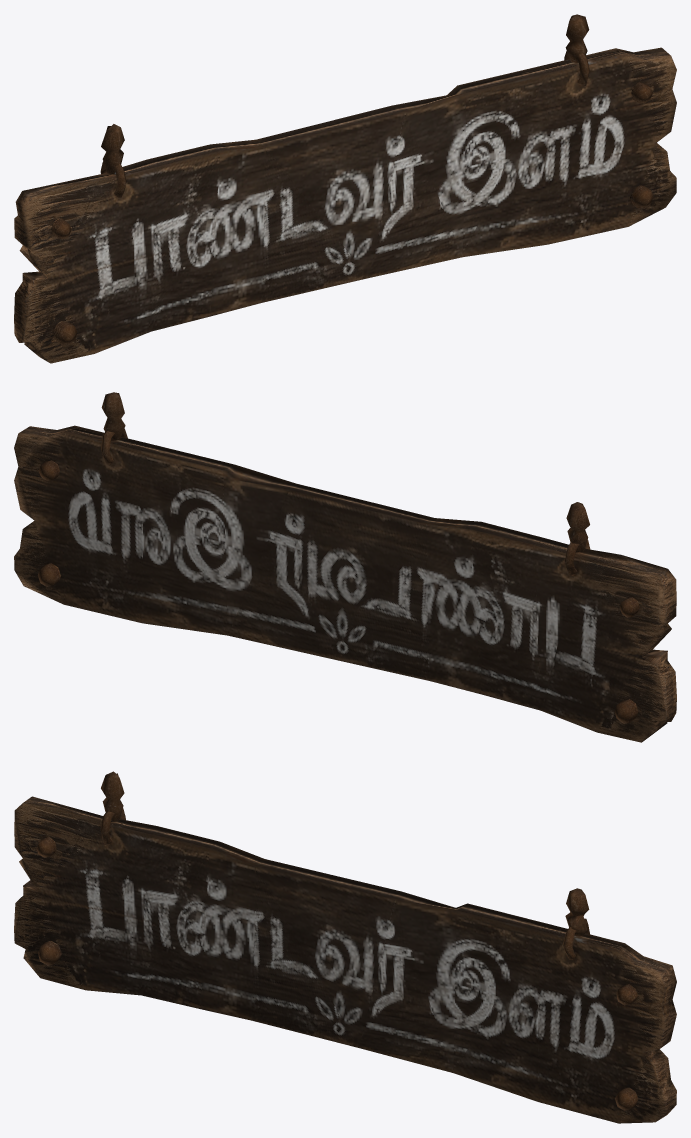
Rendered from HouseBoard.fbx.
3 renders of one model, top to bottom at view 1: azimuth 30°, elevation 25°; view 2: azimuth 150°, elevation 25°; view 3: azimuth 330°, elevation 25°, orthographic.
Visible parts, largest first — view 1: Mesh_0; view 2: Mesh_0; view 3: Mesh_0.
Part boxes in pixels (x1,y1,x2,y2): Mesh_0: (14, 14, 676, 363); Mesh_0: (14, 392, 676, 742); Mesh_0: (14, 771, 676, 1123).
Bounding box in the file's own units: 100 × 32.81 × 7.44.
1 material, 1 textured.
